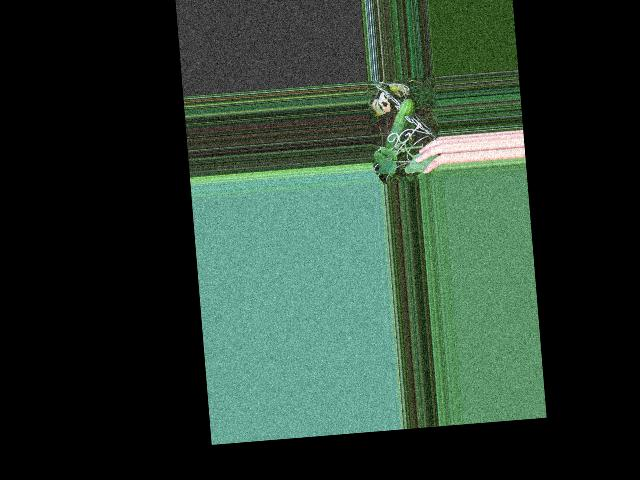cucumber: (381, 98, 418, 149)
